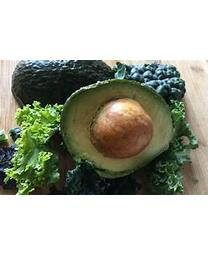avocado: (61, 79, 173, 177), (11, 59, 117, 119)
